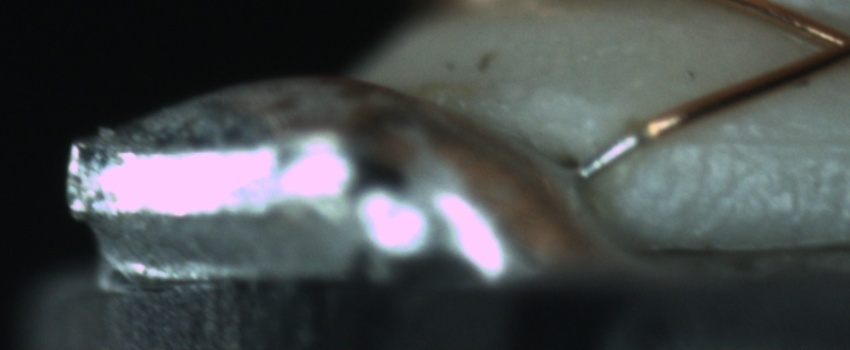CL: (795, 12, 850, 76)
DL: (651, 111, 848, 168)
TS: (577, 128, 644, 182)
TTCW: (575, 108, 674, 183)
